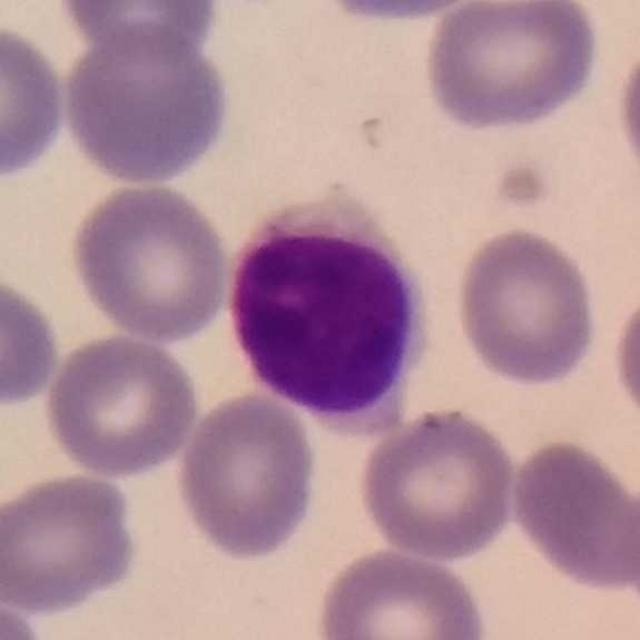Lymphocyte: (220, 190, 436, 436)
RBC: (58, 20, 236, 189), (64, 178, 235, 345), (356, 404, 521, 563), (172, 390, 322, 564), (418, 0, 606, 135), (451, 222, 602, 390), (40, 329, 204, 480), (0, 468, 144, 618), (506, 434, 639, 596), (312, 544, 491, 640), (0, 19, 71, 185), (55, 0, 223, 63), (0, 272, 65, 412), (607, 274, 640, 438), (307, 0, 500, 27), (612, 29, 640, 205), (613, 465, 640, 621), (0, 591, 50, 640)
